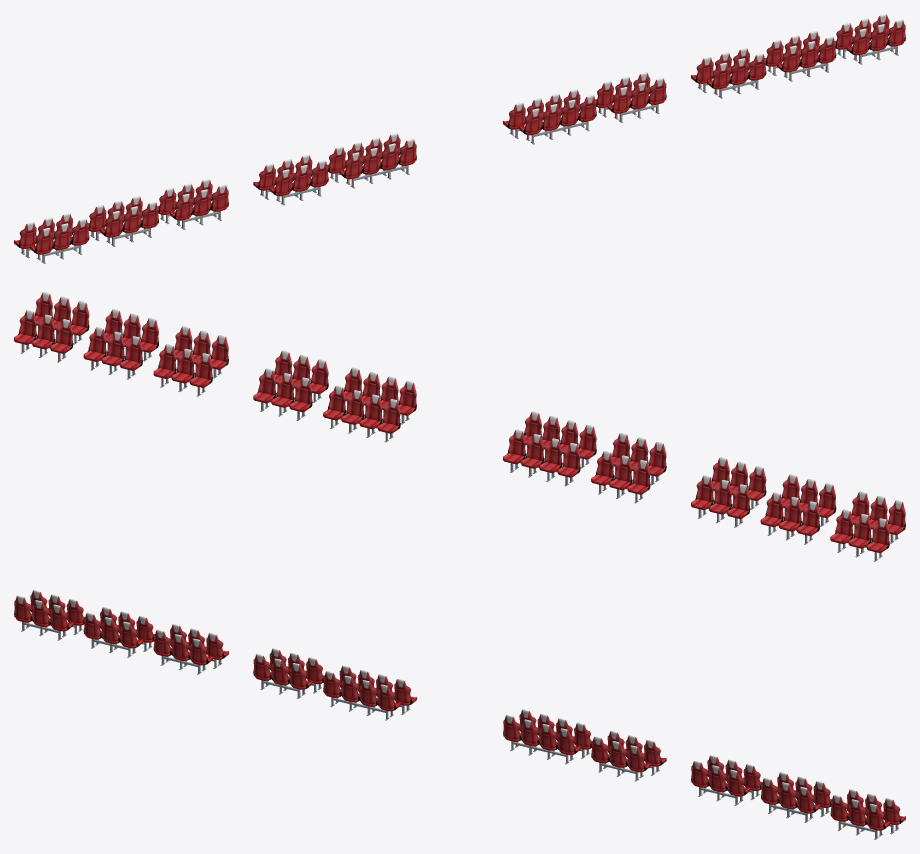
File: Vip_Sats.fbx
3 views of the same model, one above another, from view 1: azimuth 30°, elevation 25°; view 2: azimuth 150°, elevation 25°; view 3: azimuth 330°, elevation 25° (orthographic).
Parts seen in each view (by area): view 1: Vip Seats; view 2: Vip Seats; view 3: Vip Seats.
Part boxes in pixels (left/top/right/bottom): Vip Seats: left=14, top=14, right=905, bottom=263; Vip Seats: left=14, top=292, right=905, bottom=561; Vip Seats: left=14, top=590, right=905, bottom=839.
Size of the model in its own units: 1159 by 54.03 by 60.24.
Materials: 2 (1 with a texture image).
